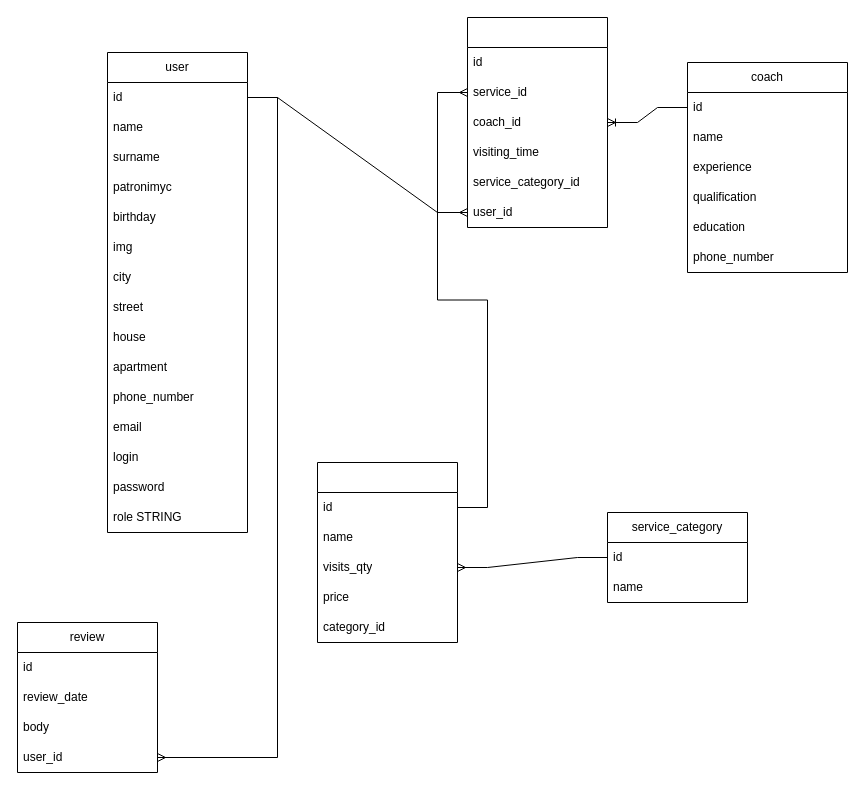
Image size: 865x790. Some labels were removed from this diagram. Here are the shapes that lost their labels. From the top down, the box of each, then its label:
(466, 16, 608, 228): bid
(316, 462, 458, 642): service
